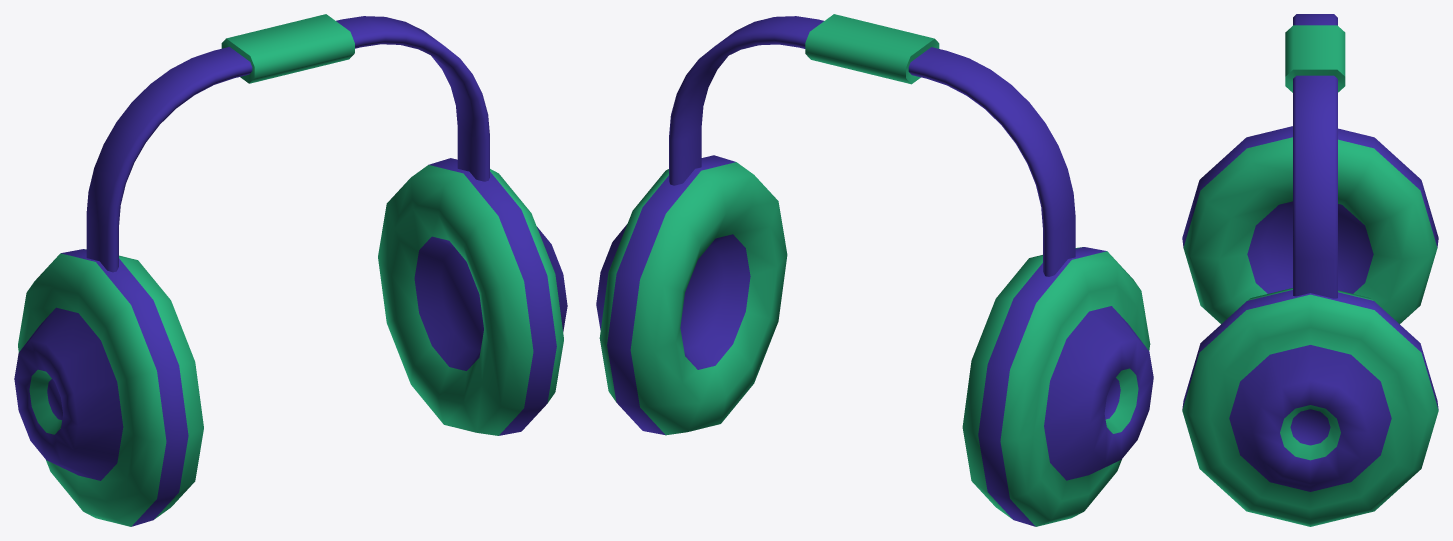
File: Headset.fbx
3 renders of one model, left to right at view 1: azimuth 30°, elevation 25°; view 2: azimuth 150°, elevation 25°; view 3: azimuth 270°, elevation 25°, orthographic. The views are drawn at different scales.
Visible parts, largest first — view 1: Headset; view 2: Headset; view 3: Headset.
Boxes of the visible parts, x1,y1,x2,y2 form: Headset: (14, 14, 567, 526); Headset: (596, 14, 1153, 526); Headset: (1182, 14, 1438, 526).
Bounding box in the file's own units: 12.1 × 10.25 × 6.06.
